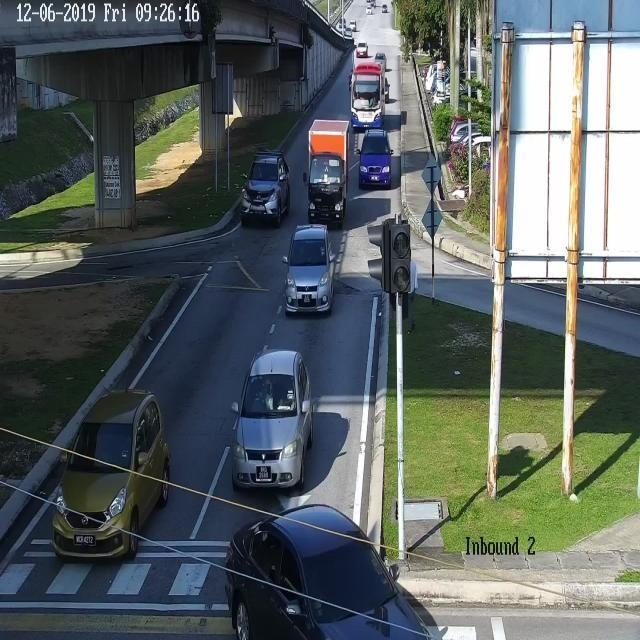Bus: (348, 61, 390, 137)
Truck: (302, 114, 358, 226)
